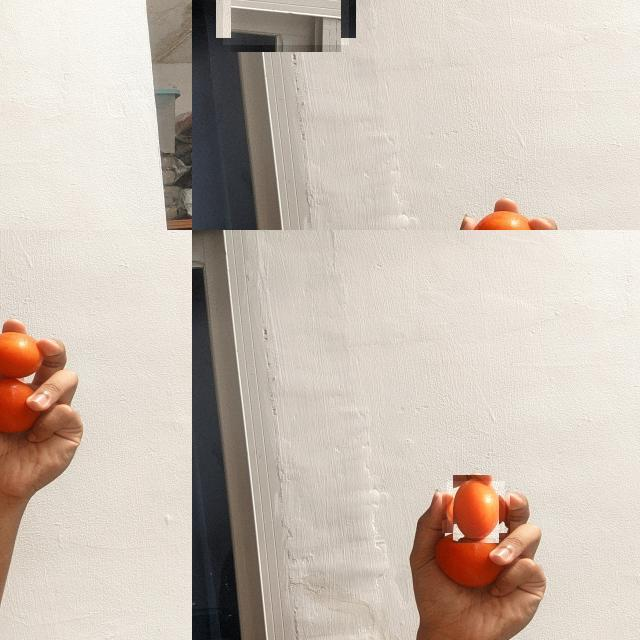Fresh Tomato: (433, 532, 505, 589), (447, 481, 505, 538)
Rotten Tomato: (223, 0, 348, 45)
